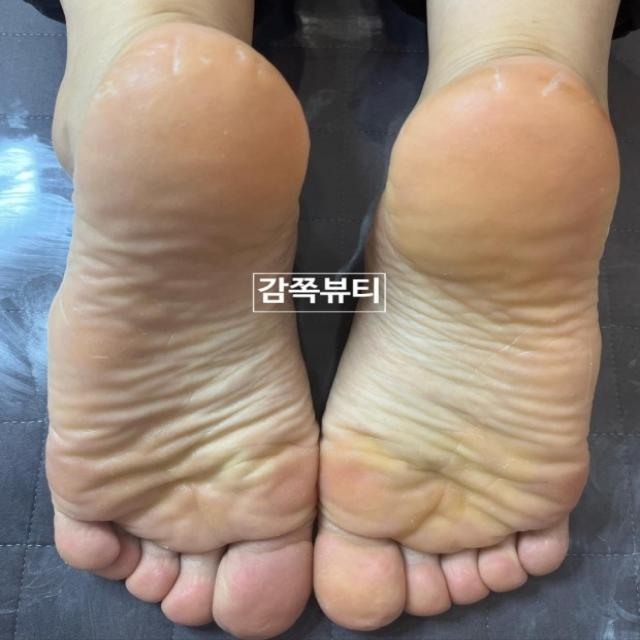Barefoots: (311, 0, 624, 640), (42, 18, 321, 640)
